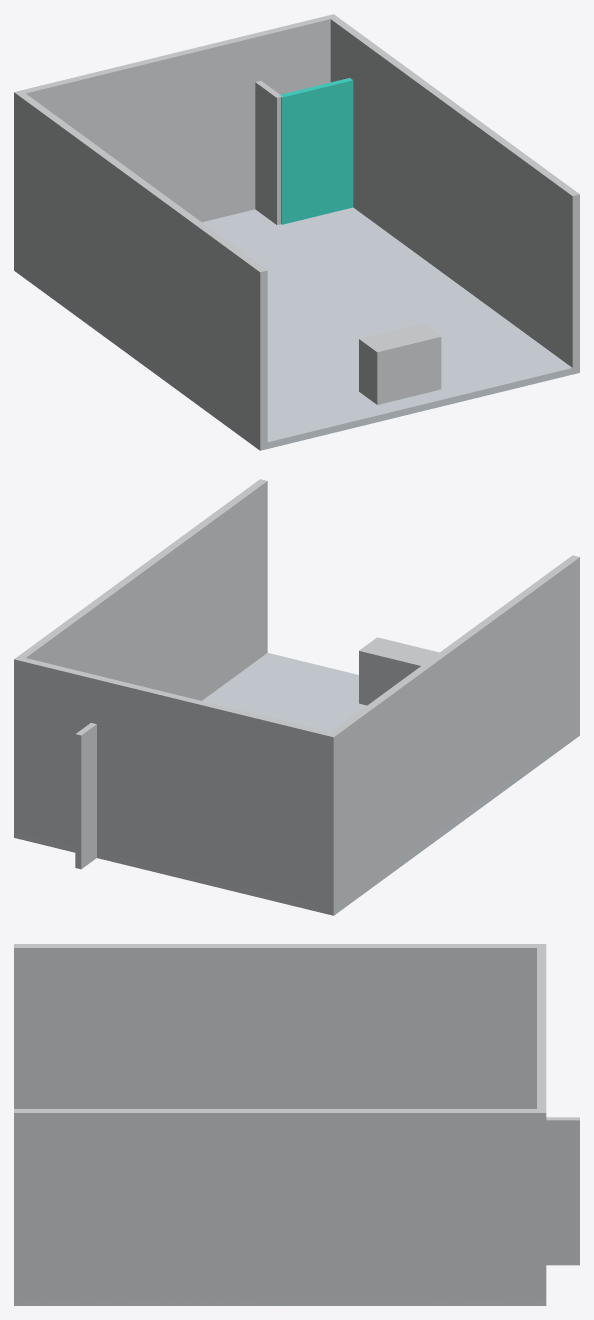
3 views of the same model, one above another, from view 1: azimuth 30°, elevation 25°; view 2: azimuth 150°, elevation 25°; view 3: azimuth 270°, elevation 25° (orthographic). The views are drawn at different scales.
Parts seen in each view (by area): view 1: Exhibition Booth Concept; view 2: Exhibition Booth Concept; view 3: Exhibition Booth Concept.
Boxes of the visible parts, left/top/right/bottom form: Exhibition Booth Concept: left=14, top=14, right=579, bottom=450; Exhibition Booth Concept: left=14, top=479, right=579, bottom=915; Exhibition Booth Concept: left=14, top=944, right=579, bottom=1305.
Size of the model in its own units: 6 by 3.2 by 8.51.
